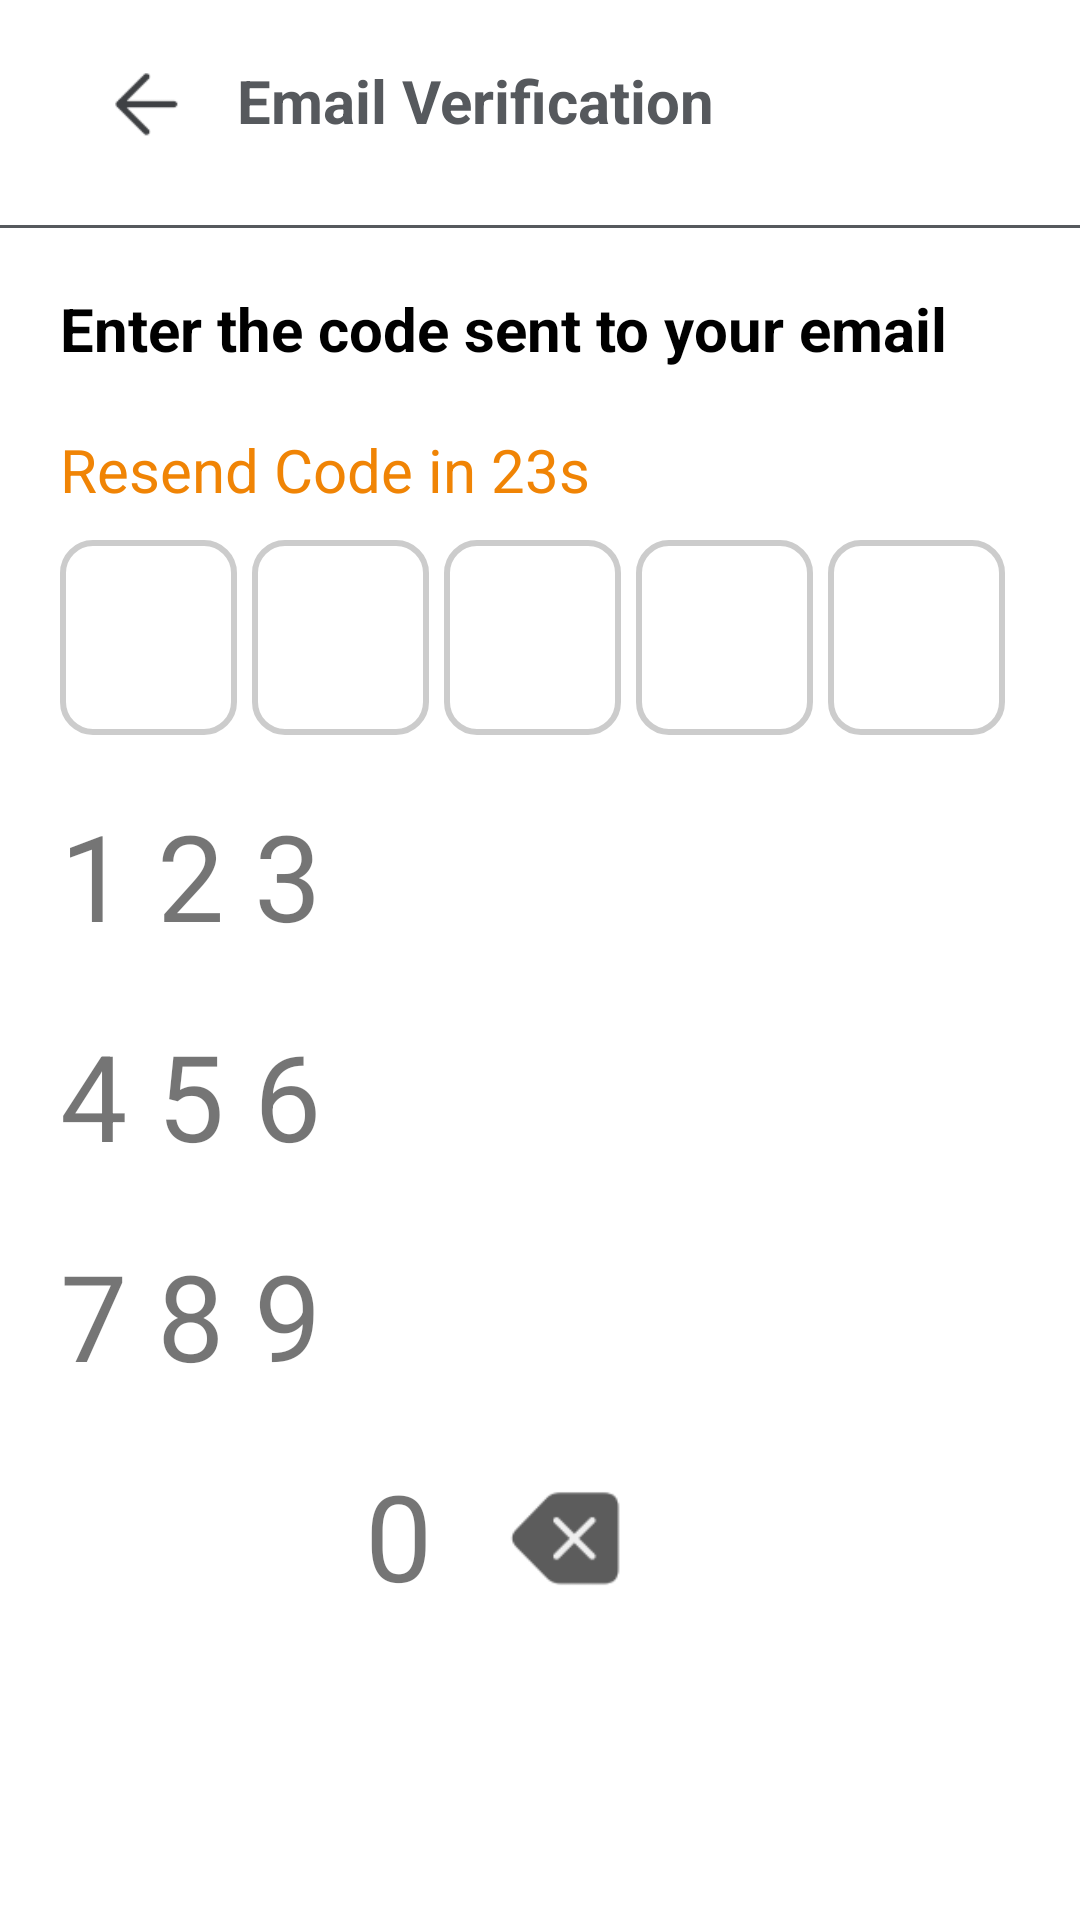

Screen size 1080 x 1920. Icon name, then its box in pixels as region(x1, y1, x2, y2):
delete: region(511, 1492, 620, 1585)
left arrow: region(115, 73, 178, 136)
